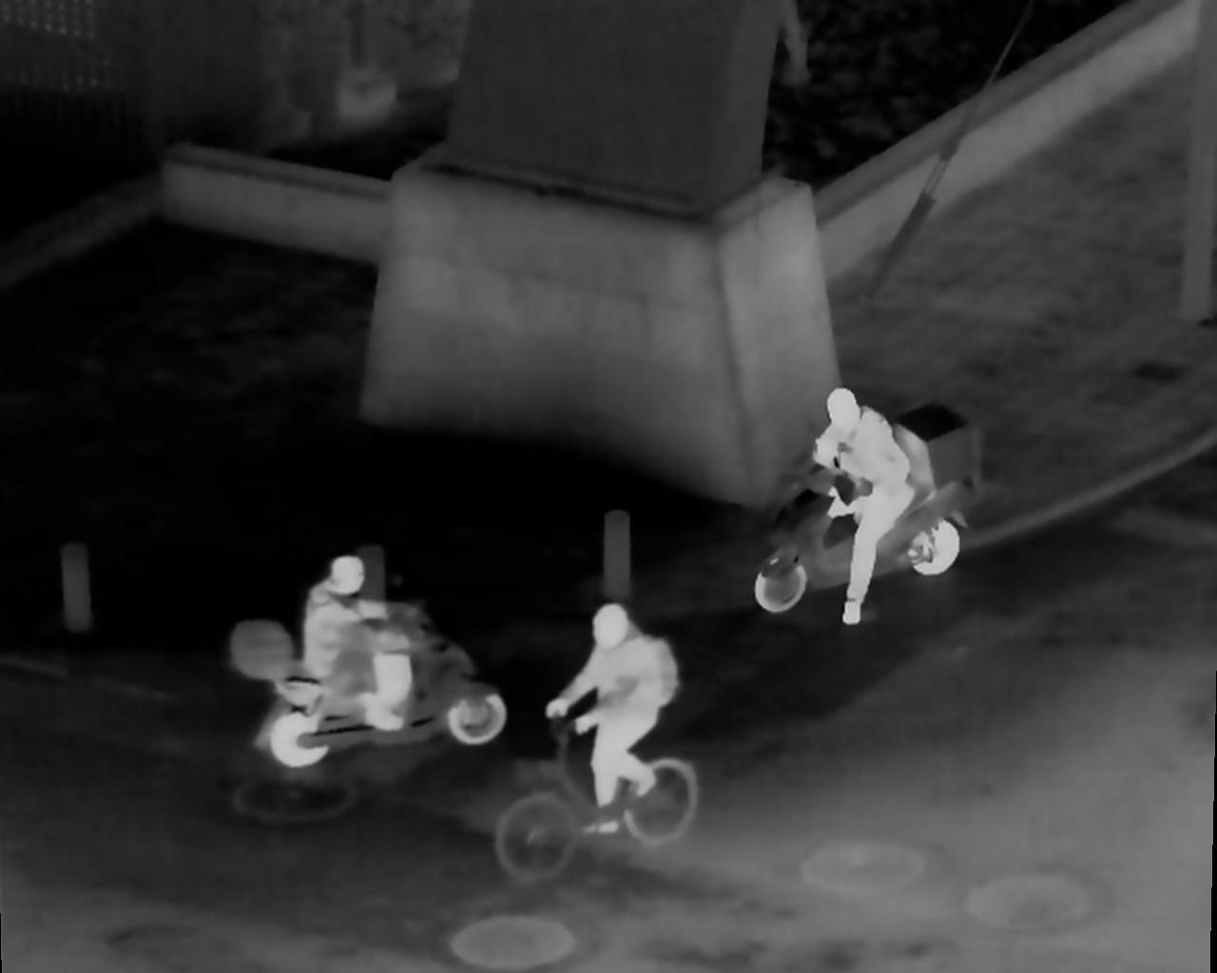person: (544, 602, 674, 814), (813, 389, 920, 634), (295, 551, 418, 750)
